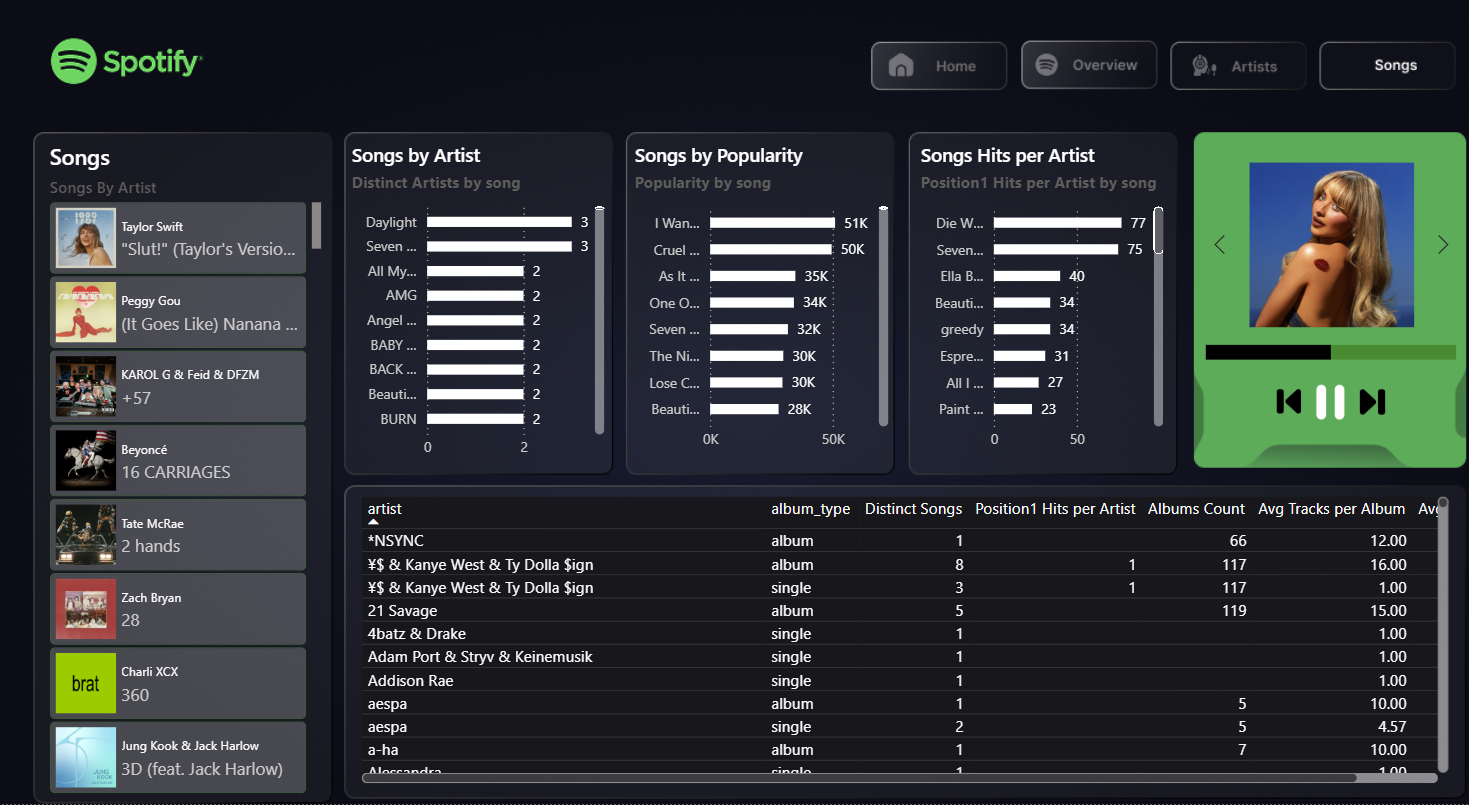

Layout of this report page (visuals, bound fields, positions):
{"tool":"powerbi","page":{"name":"Songs","canvas":[1280,720],"ordinal":3},"visuals":[{"type":"actionButton","box":[760.7,64,118.6,41.5],"z":0},{"type":"actionButton","box":[888.8,64,118.6,41.5],"z":1000},{"type":"actionButton","box":[1016.9,64,118.6,41.5],"z":2000},{"type":"actionButton","box":[1145,64,118.6,41.5],"z":3000},{"type":"advancedSlicerVisual","title":"Songs","fields":{"Values":["Top-50-world.song"]},"box":[1046.3,156.6,223.3,162.7],"z":4000},{"type":"image","box":[1180.5,333.2,25.1,80.5],"z":5000},{"type":"image","box":[1109.5,333.2,24.2,80.5],"z":6000},{"type":"image","box":[1142.4,328.9,30.3,90],"z":7000},{"type":"hundredPercentStackedBarChart","fields":{"Y":["_Measure.Avg Popularity","Avg(Top-50-world.popularity)"]},"box":[1044.6,294.3,225.9,65.8],"z":8000},{"type":"shape","box":[1082.5,157,151.8,156.1],"z":9000},{"type":"advancedSlicerVisual","title":"Songs","fields":{"Values":["Top-50-world.song"]},"box":[47.6,148.8,244.9,571.2],"z":10000},{"type":"tableEx","fields":{"Values":["Top-50-world.artist","Top-50-world.album_type","_Measure.Distinct Songs","_Measure.Position1 Hits per Artist","_Measure.Albums Count","_Measure.Avg Tracks per Album","_Measure.Avg Popularity"]},"box":[315.7,450.2,947.9,257],"z":11000},{"type":"clusteredBarChart","title":"Songs by Artist","fields":{"Category":["Top-50-world.song"],"Y":["_Measure.Distinct Artists"]},"box":[307.9,149.2,227.7,281.2],"z":12000},{"type":"clusteredBarChart","title":"Songs Hits per Artist","fields":{"Category":["Top-50-world.song"],"Y":["_Measure.Position1 Hits per Artist"]},"box":[798.7,149.2,219.1,274.3],"z":13000},{"type":"clusteredBarChart","title":"Songs by Popularity","fields":{"Category":["Top-50-world.song"],"Y":["Sum(Top-50-world.popularity)"]},"box":[552,149.2,228.6,274.3],"z":14000}]}

Visuals, with their boxes in screenshot pixels (x1, y1, x2, y2), scaled from the page's 1280x720 canvas onto the 1469x805 screenshot:
actionButton: [left=873, top=72, right=1009, bottom=118]
actionButton: [left=1020, top=72, right=1156, bottom=118]
actionButton: [left=1167, top=72, right=1303, bottom=118]
actionButton: [left=1314, top=72, right=1450, bottom=118]
"Songs" advancedSlicerVisual: [left=1201, top=175, right=1457, bottom=357]
image: [left=1355, top=373, right=1384, bottom=463]
image: [left=1273, top=373, right=1301, bottom=463]
image: [left=1311, top=368, right=1346, bottom=468]
hundredPercentStackedBarChart - _Measure.Avg Popularity x Avg(Top-50-world.popularity): [left=1199, top=329, right=1458, bottom=403]
shape: [left=1242, top=176, right=1417, bottom=350]
"Songs" advancedSlicerVisual: [left=55, top=166, right=336, bottom=804]
tableEx - Top-50-world.artist x Top-50-world.album_type: [left=362, top=503, right=1450, bottom=791]
"Songs by Artist" clusteredBarChart: [left=353, top=167, right=615, bottom=481]
"Songs Hits per Artist" clusteredBarChart: [left=917, top=167, right=1168, bottom=473]
"Songs by Popularity" clusteredBarChart: [left=634, top=167, right=896, bottom=473]
